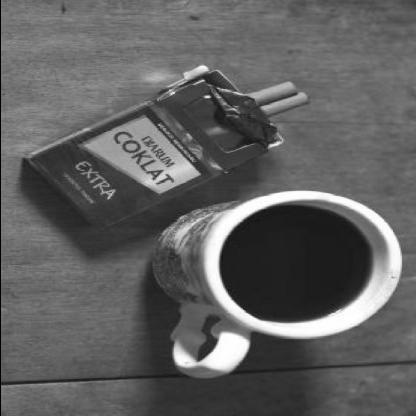objects: (24, 65, 308, 228)
